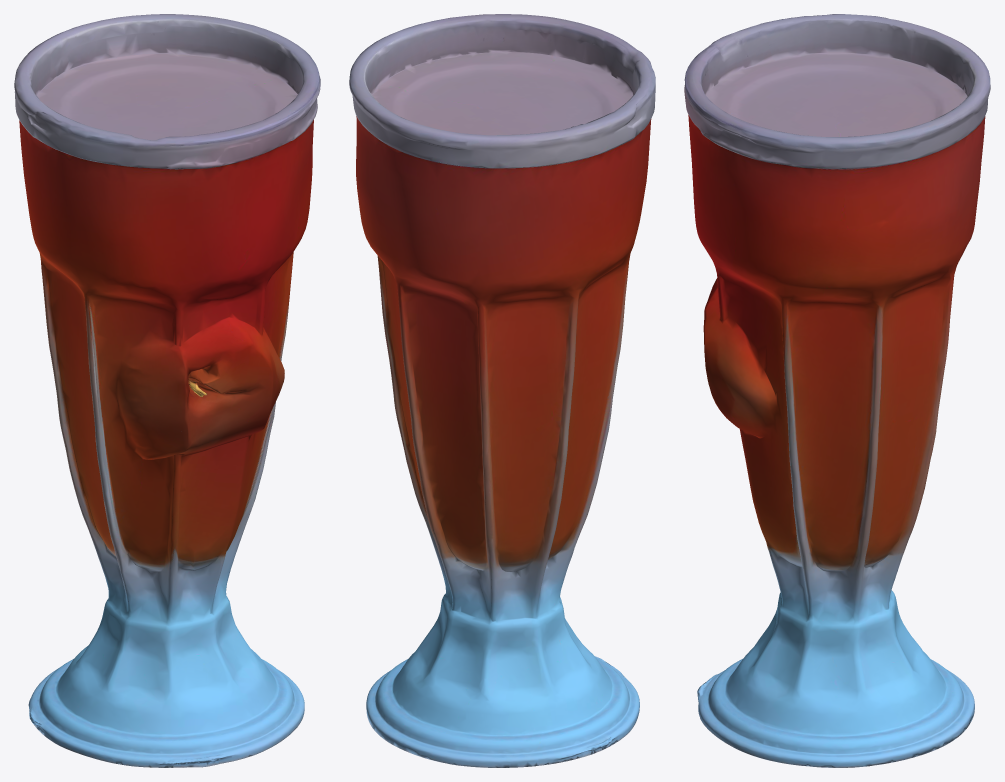
The model's file is MoccochinchiModel.glb.
3 views of the same model, side by side, from view 1: azimuth 30°, elevation 25°; view 2: azimuth 150°, elevation 25°; view 3: azimuth 270°, elevation 25° (orthographic).
Visible parts, largest first — view 1: tripo_node_e62723ab-f97c-493e-a861-297d1e985dd3; view 2: tripo_node_e62723ab-f97c-493e-a861-297d1e985dd3; view 3: tripo_node_e62723ab-f97c-493e-a861-297d1e985dd3.
Part boxes in pixels (x1,y1,x2,y2): tripo_node_e62723ab-f97c-493e-a861-297d1e985dd3: [14, 14, 320, 767]; tripo_node_e62723ab-f97c-493e-a861-297d1e985dd3: [349, 14, 655, 767]; tripo_node_e62723ab-f97c-493e-a861-297d1e985dd3: [684, 14, 990, 767].
Bounding box in the file's own units: 0.4308 × 0.9785 × 0.4289.
Materials: 1 (1 with a texture image).
